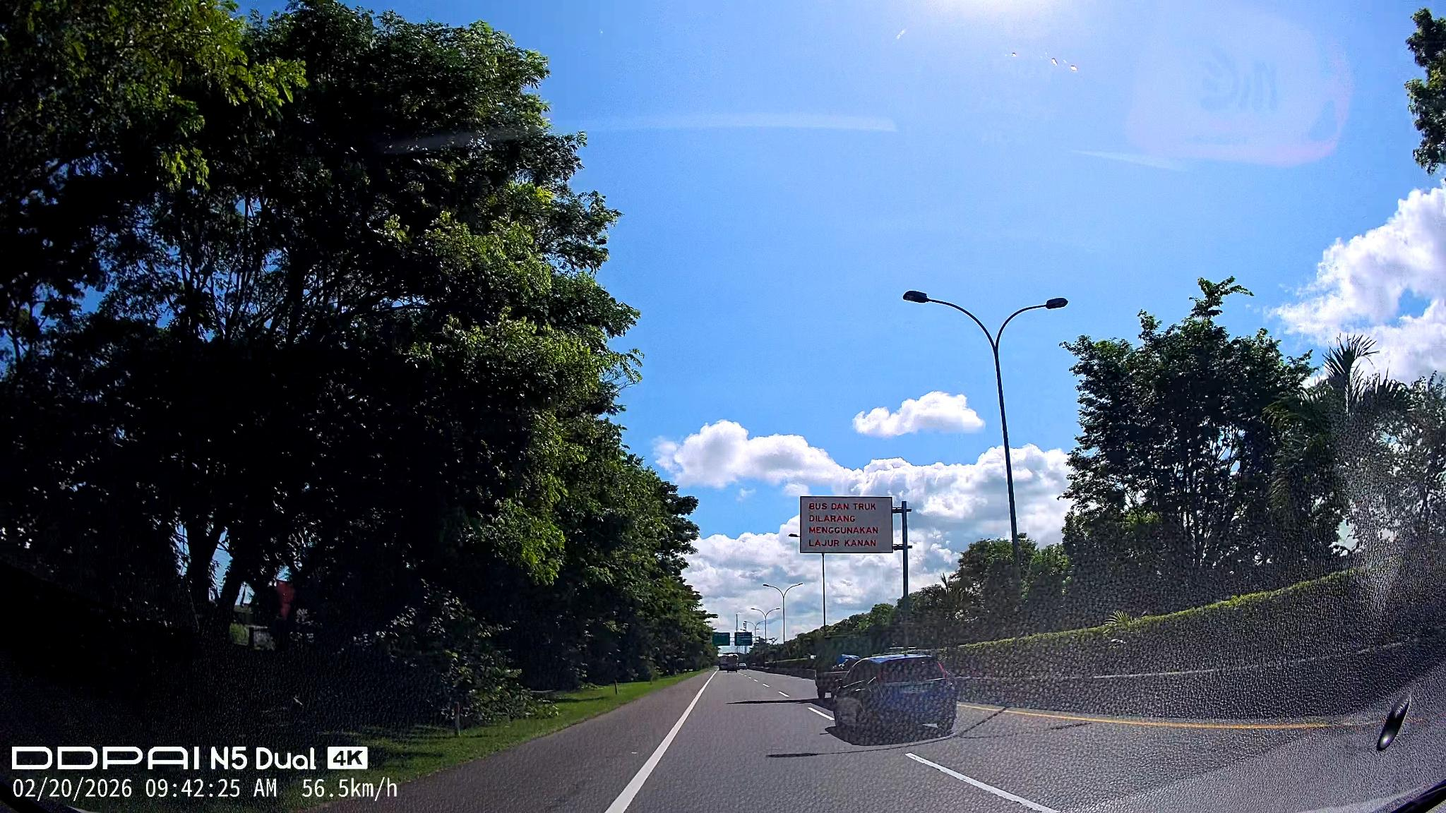rambu_teks: (799, 494, 894, 554)
